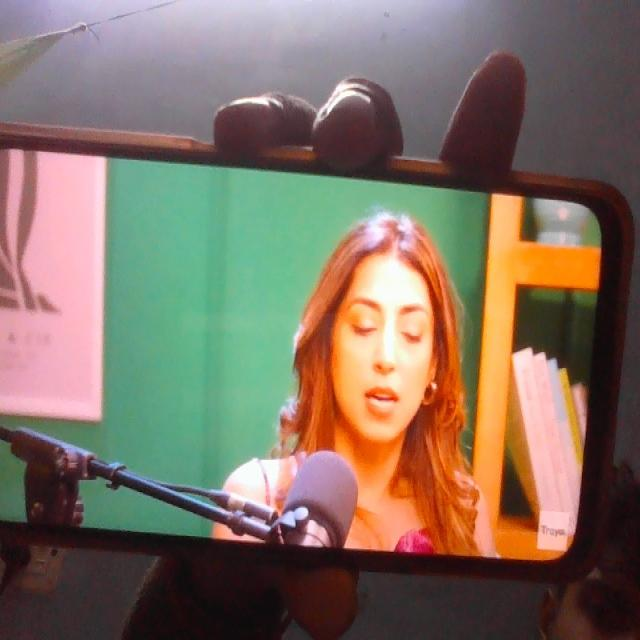fake: (323, 197, 453, 444)
